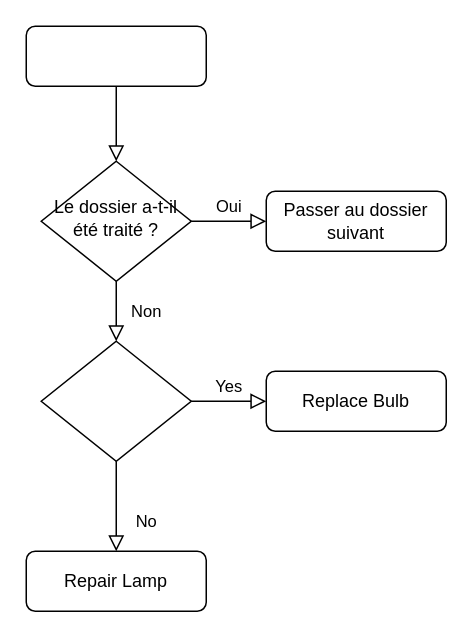
The diagram is 473 pixels wide and 638 high, and some of its shapes have lost their labels. The centre of each missing label's shape, as x and y in pixels:
Bulb burned out?: the point at 115,400
Lamp doesn't work: the point at 115,55
